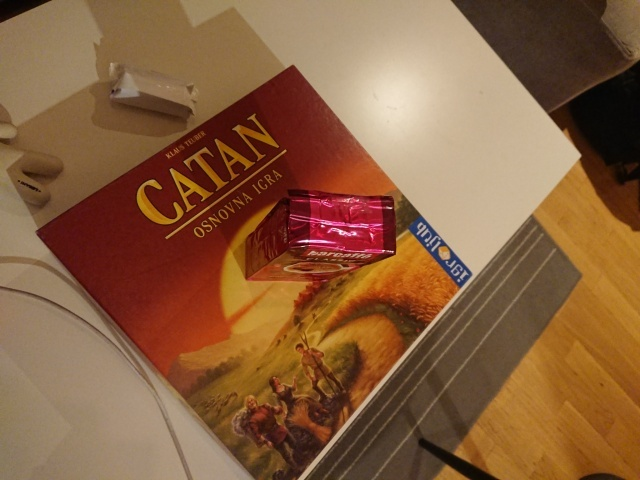Barcaffe Classic Original 225g: (242, 186, 400, 284)
